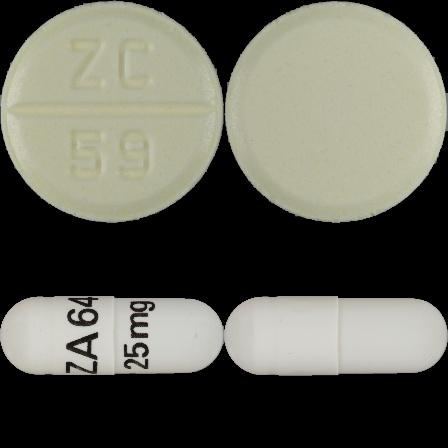68382-003: (0, 0, 224, 224)
